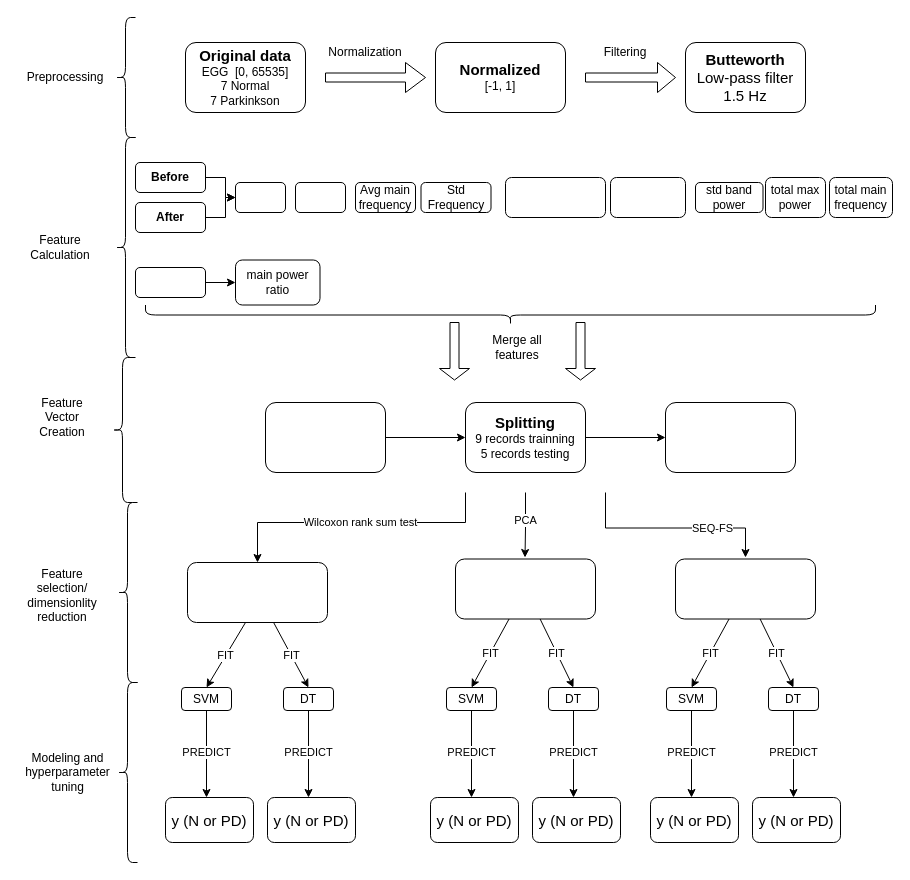
This 910x880 diagram has some shape labels left out. Here are the shapes that lost their labels. From the top down, the centre of each, then its label:
At point 260,197: "Avg Power".
At point 320,197: "Std Power".
At point 555,197: "percentage stomach operations".
At point 648,197: "mean band power".
At point 170,282: "Whole signal".
At point 325,437: "Final data 14 records 39 features".
At point 730,437: "Cross Validation k-fold (k=5)".
At point 257,592: "Case 1 1-2 features".
At point 525,588: "Case 2 2-4 features".
At point 745,588: "Case 3 1-2 features".
